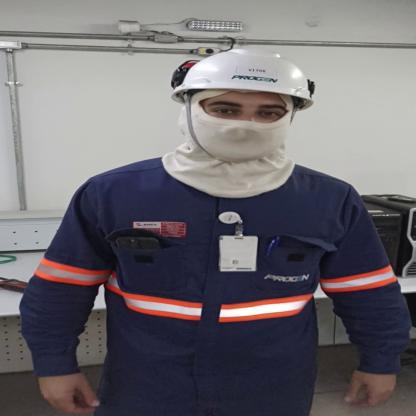Balaclava: (160, 92, 302, 199)
Capacete: (170, 46, 326, 102)
